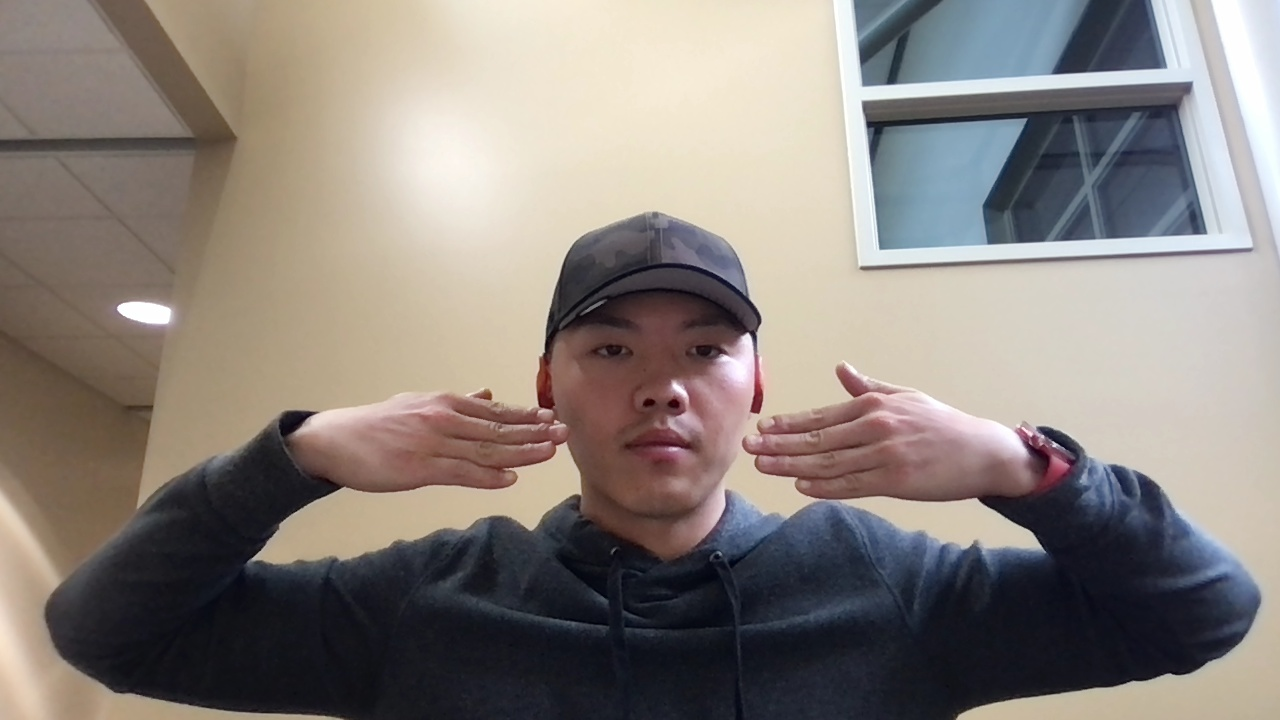Thank You: (303, 361, 1018, 510)
